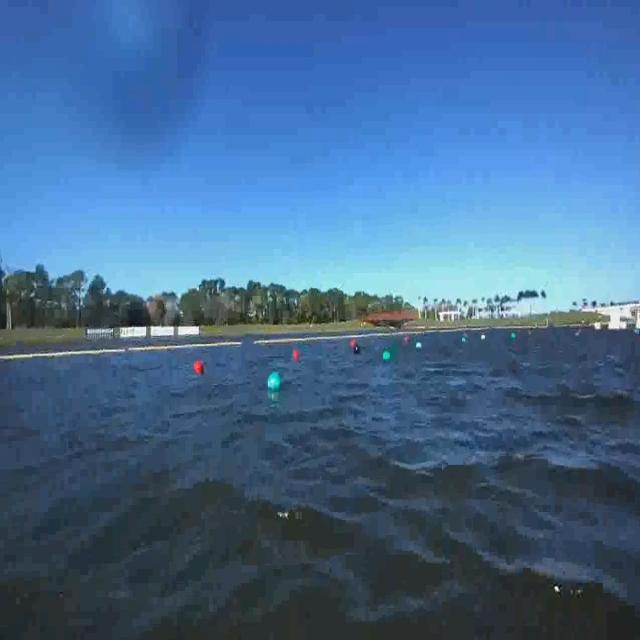green-buoy: (268, 372, 282, 392), (384, 351, 391, 361)
red-buoy: (192, 360, 204, 374), (293, 350, 299, 361)
